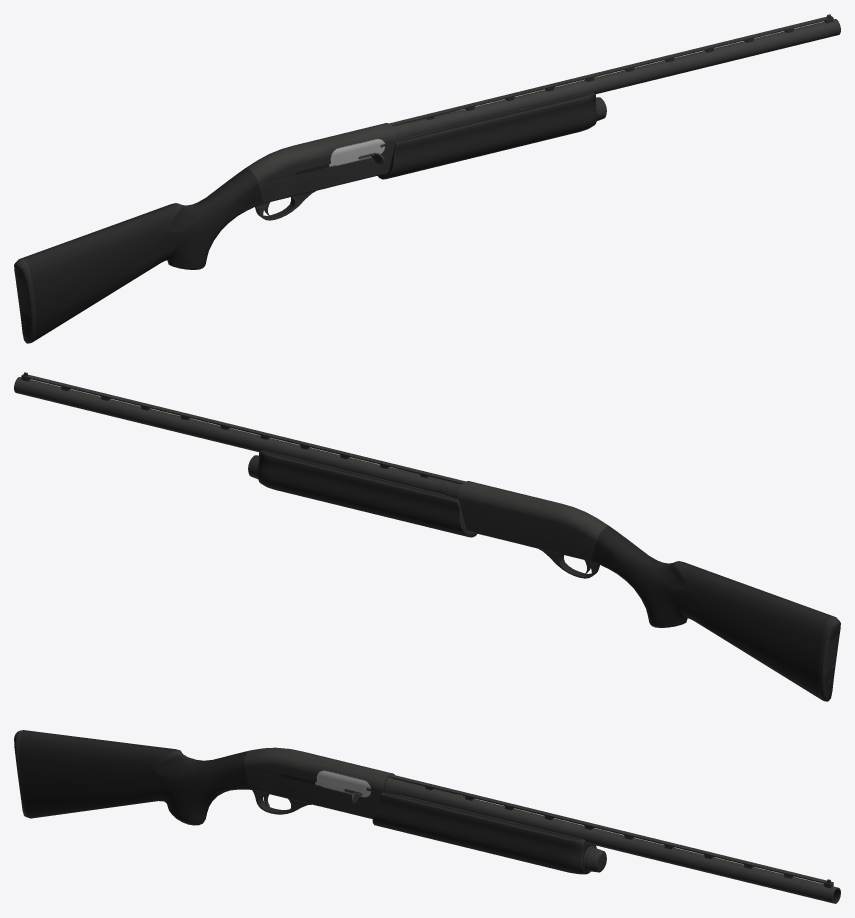
The model's file is remington1100.glb.
3 renders of one model, top to bottom at view 1: azimuth 30°, elevation 25°; view 2: azimuth 150°, elevation 25°; view 3: azimuth 330°, elevation 25°, orthographic.
Parts seen in each view (by area): view 1: remington; view 2: remington; view 3: remington.
Boxes of the visible parts, bbox=[...] form: remington: bbox=[14, 14, 840, 343]; remington: bbox=[14, 372, 840, 701]; remington: bbox=[14, 730, 840, 903].
Size of the model in its own units: 1.23 by 0.1924 by 0.0674.
1 material, 1 textured.
